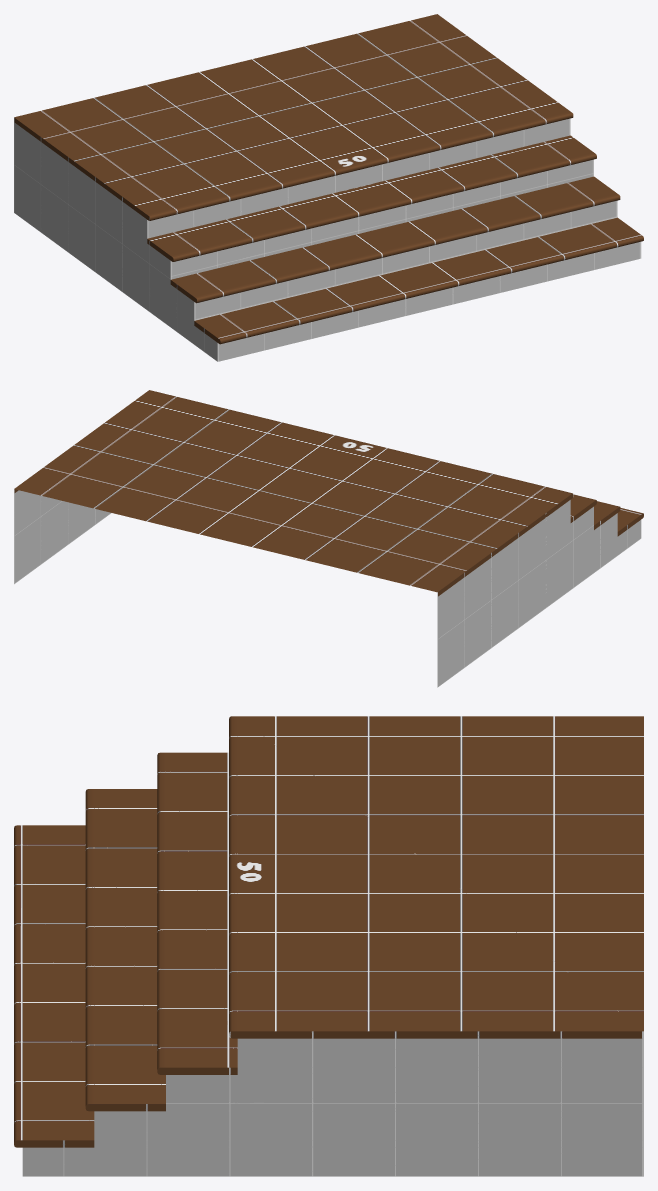
Rendered from M01StairCase02_1.FBX.
The picture shows the model from 3 angles, top to bottom: view 1: azimuth 30°, elevation 25°; view 2: azimuth 150°, elevation 25°; view 3: azimuth 270°, elevation 25°; orthographic projection. The views are drawn at different scales.
Parts seen in each view (by area): view 1: M01StairCase02_1; view 2: M01StairCase02_1; view 3: M01StairCase02_1.
Part boxes in pixels (box(x1,y1,x2,y2)): M01StairCase02_1: box(14, 14, 643, 361); M01StairCase02_1: box(14, 390, 643, 687); M01StairCase02_1: box(14, 716, 643, 1176).
Size of what is drawn, in the model's own units: 3.71 by 0.8 by 3.14.
